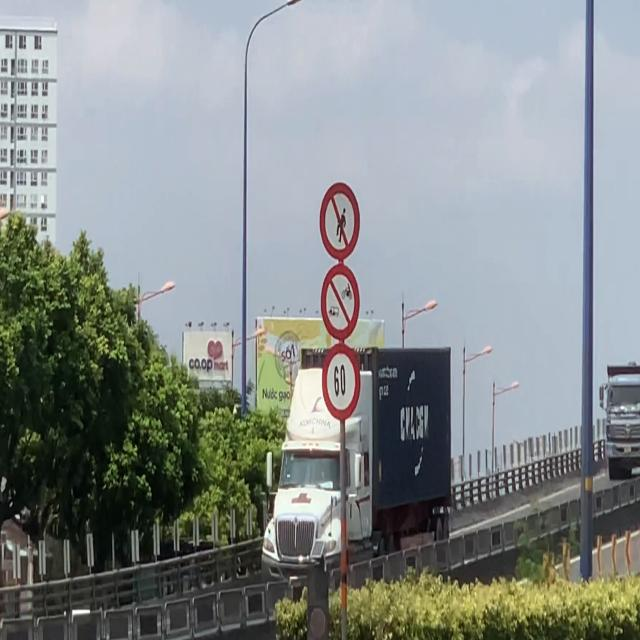Cam con lai: (319, 181, 361, 261), (320, 263, 360, 340)
Toc do toi da: (321, 342, 362, 422)
